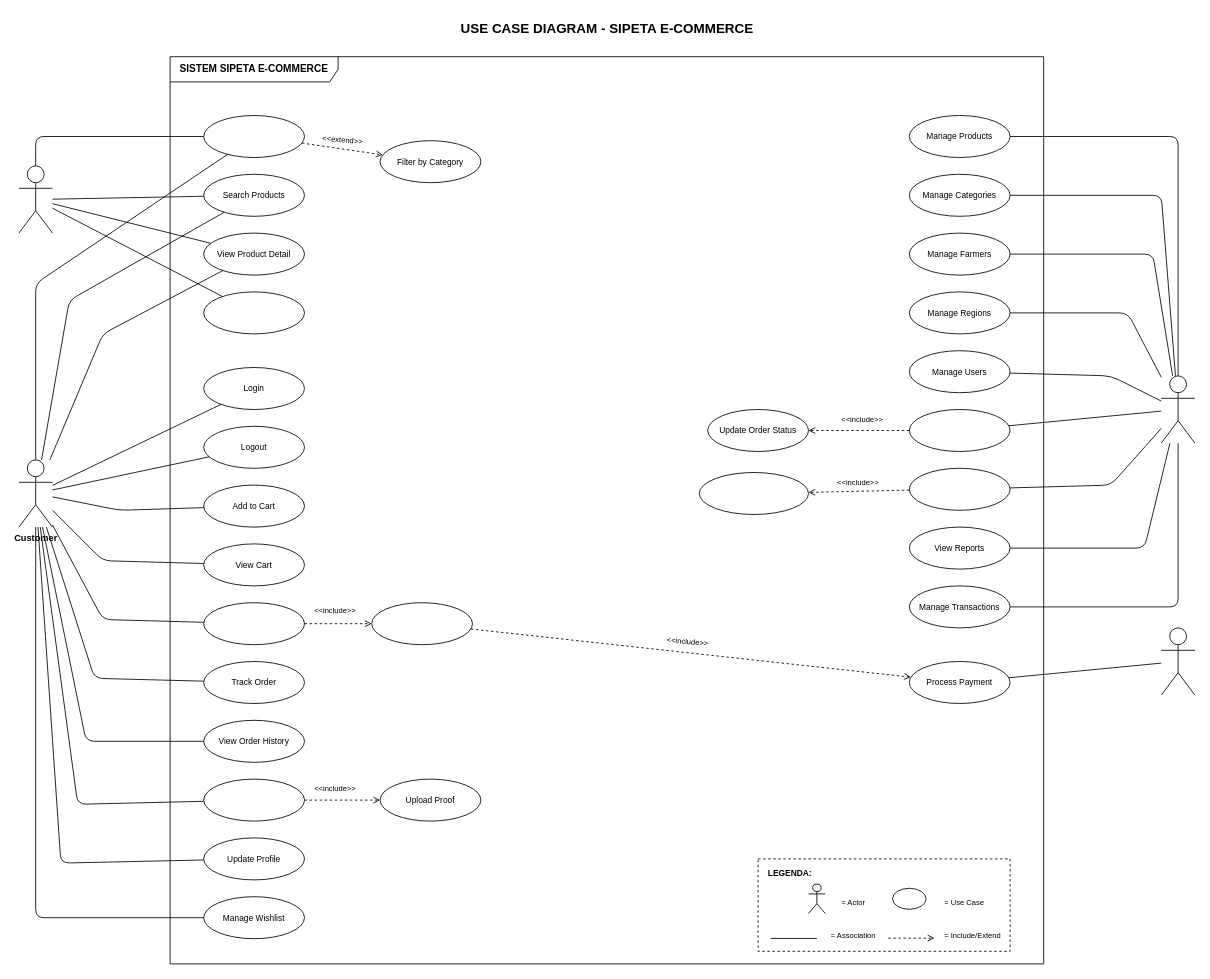
Some shapes in this 1210 by 979 pixel diagram are drawn without their labels. Here are the shapes that lost their labels. From the top down, the centre of each, then its label:
At [253,136]: "Browse Products".
At [35,199]: "Guest".
At [253,312]: "Register".
At [1177,409]: "Admin".
At [959,430]: "Manage Orders".
At [753,493]: "Approve/Reject Return".
At [959,488]: "Manage Returns".
At [253,623]: "Checkout".
At [421,623]: "Make Payment".
At [1177,661]: "Payment Gateway".
At [253,799]: "Request Return".
